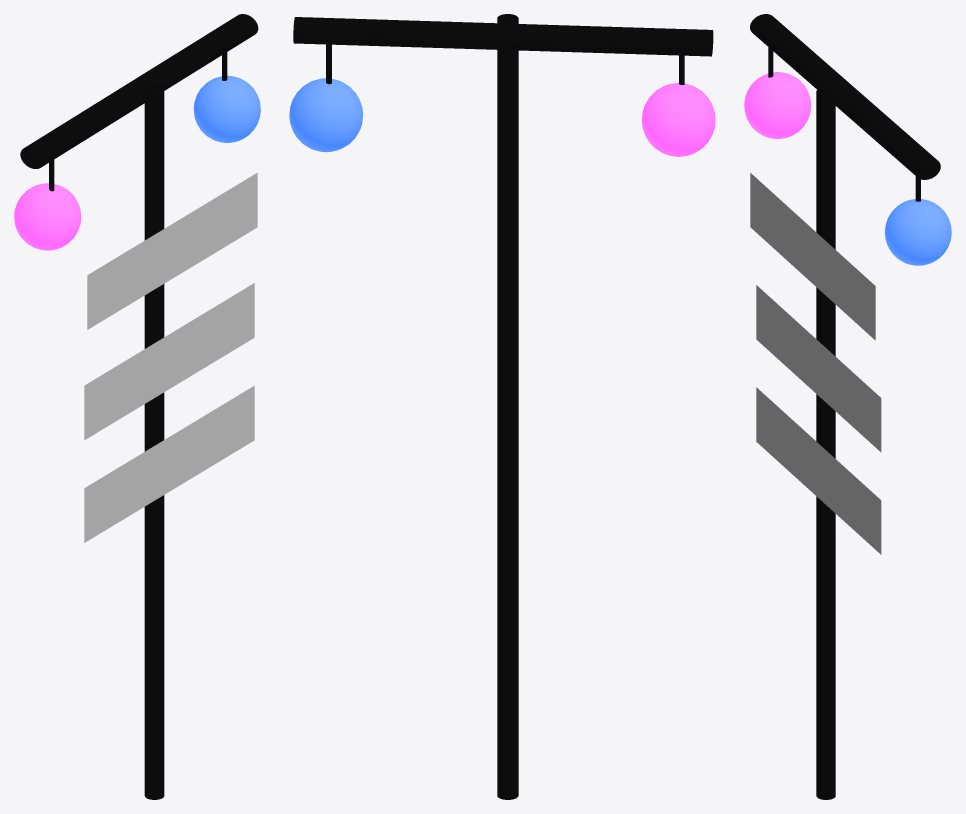
Rendered from BakedFloor (2).glb.
The picture shows the model from 3 angles, left to right: view 1: azimuth 30°, elevation 25°; view 2: azimuth 150°, elevation 25°; view 3: azimuth 270°, elevation 25°; orthographic projection. The views are drawn at different scales.
Visible parts, largest first — view 1: Cylinder, Plane.058, Plane.057, Plane.001, Cylinder.006, Sphere.001, Sphere; view 2: Cylinder, Cylinder.006, Sphere, Sphere.001; view 3: Cylinder, Plane.001, Plane.057, Plane.058, Cylinder.006, Sphere.001, Sphere.
Part boxes in pixels (box(x1,y1,x2,y2)): Cylinder: box(144, 85, 164, 799); Plane.058: box(84, 283, 254, 440); Plane.057: box(87, 172, 257, 329); Plane.001: box(84, 385, 254, 542); Cylinder.006: box(20, 14, 258, 168); Sphere.001: box(193, 75, 260, 142); Sphere: box(14, 183, 81, 250); Cylinder: box(497, 14, 518, 799); Cylinder.006: box(293, 17, 713, 56); Sphere: box(642, 83, 715, 156); Sphere.001: box(289, 78, 362, 152); Cylinder: box(816, 87, 835, 799); Plane.001: box(756, 387, 881, 554); Plane.057: box(750, 173, 875, 340); Plane.058: box(756, 285, 881, 452); Cylinder.006: box(750, 14, 940, 179); Sphere.001: box(884, 199, 951, 265); Sphere: box(744, 72, 811, 138).
Size of what is drawn, in the model's own units: 56.3 by 124 by 32.91.
Materials: 3 (1 with a texture image).
